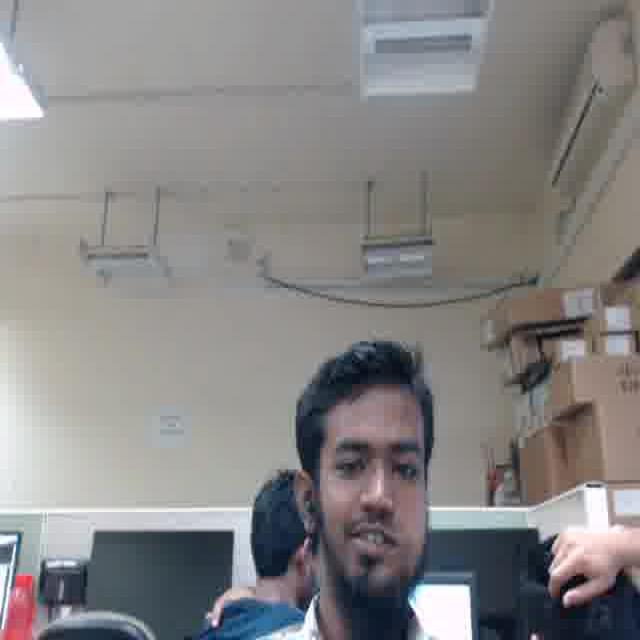Engaged: (316, 395, 429, 589)
